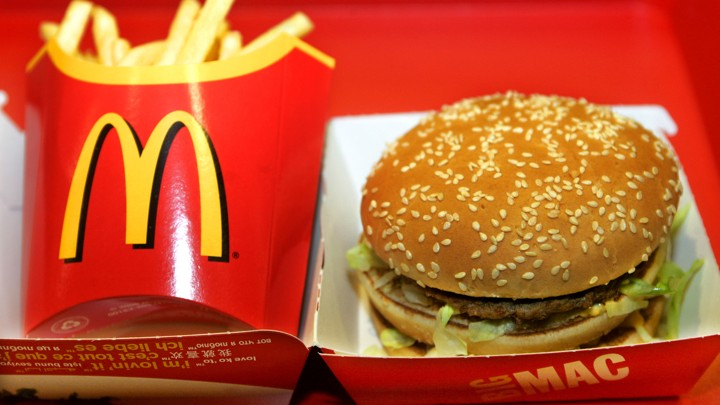mcdonalds: (49, 104, 236, 282)
